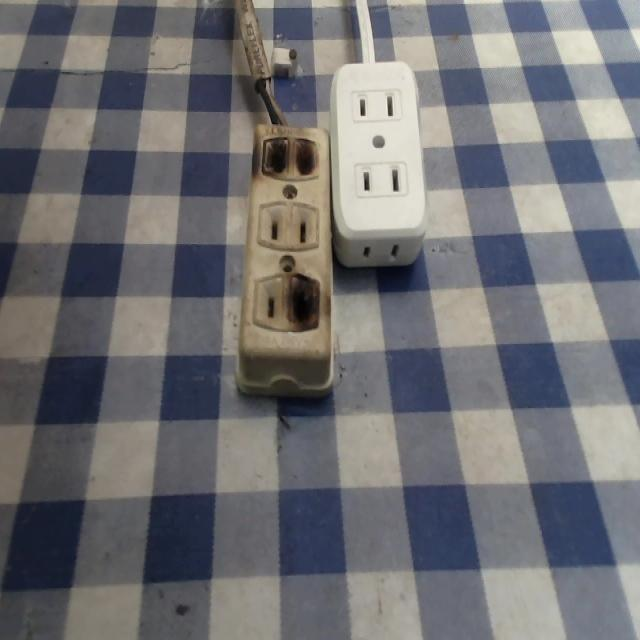-: (257, 129, 317, 183), (285, 271, 327, 332)
